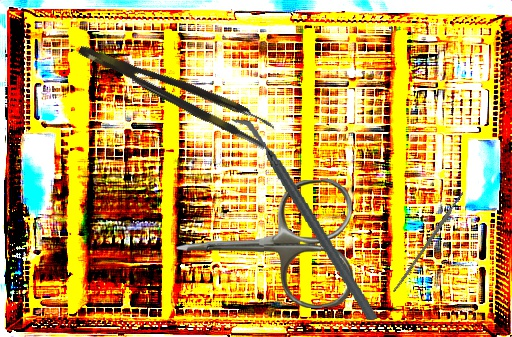Chopper: (229, 101, 381, 337)
Iris Scissors: (174, 178, 354, 311)
Scalpel Handle: (391, 191, 466, 294)
Tissue Forceps: (76, 28, 277, 151)
